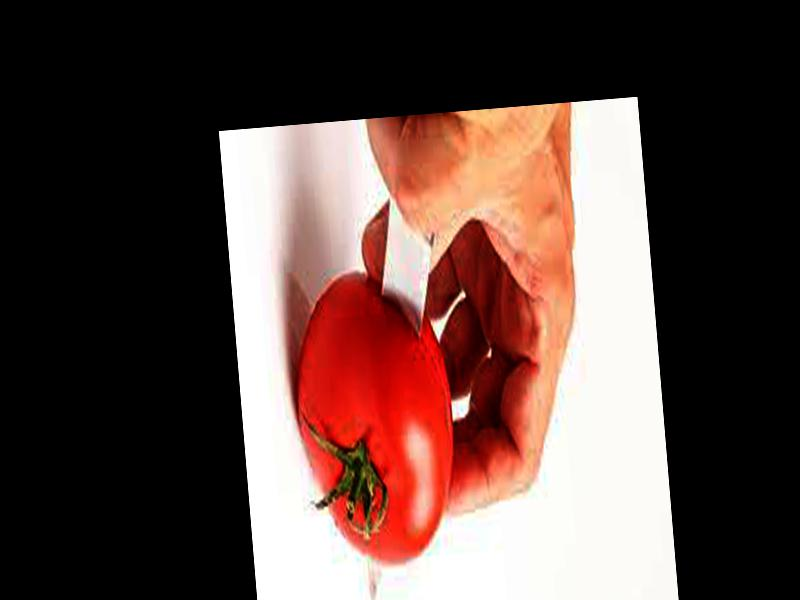Tomato: (287, 266, 464, 566)
